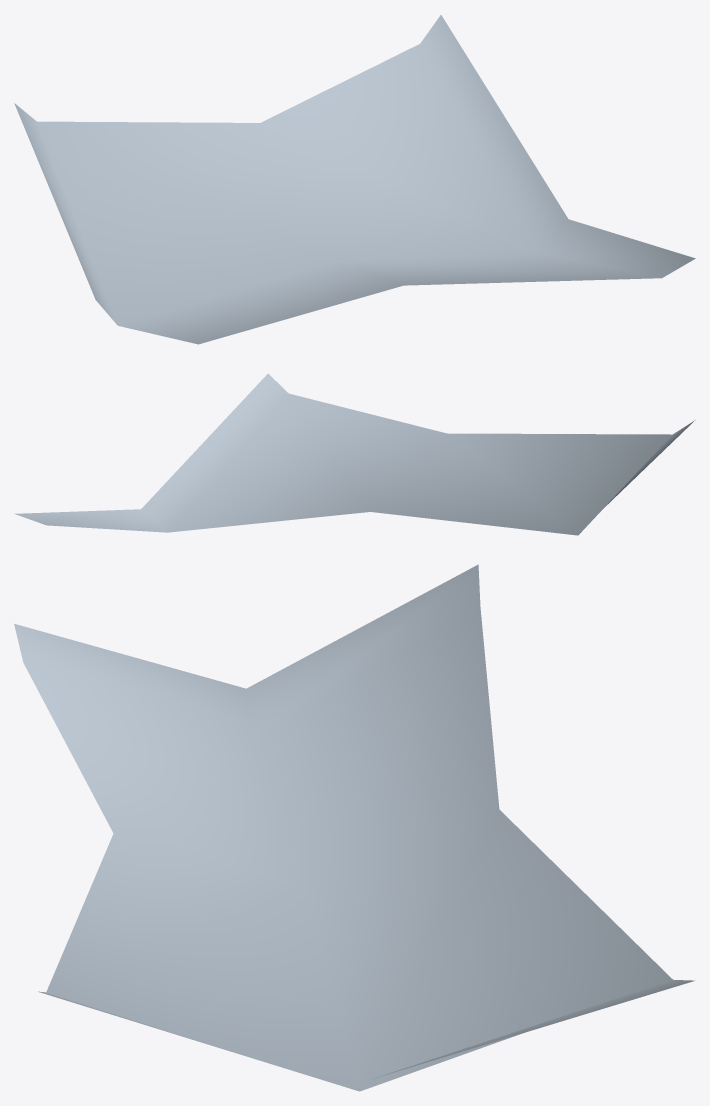
File: intersesamoid-ligament-l.glb
3 renders of one model, top to bottom at view 1: azimuth 30°, elevation 25°; view 2: azimuth 150°, elevation 25°; view 3: azimuth 270°, elevation 25°, orthographic. The views are drawn at different scales.
Parts seen in each view (by area): view 1: Intersesamoid ligament.l; view 2: Intersesamoid ligament.l; view 3: Intersesamoid ligament.l.
Part boxes in pixels (x1,y1,x2,y2): Intersesamoid ligament.l: (14, 15, 695, 344); Intersesamoid ligament.l: (14, 373, 695, 535); Intersesamoid ligament.l: (14, 564, 694, 1091).
Size of the model in its own units: 0.00888 by 0.00345 by 0.00816.
